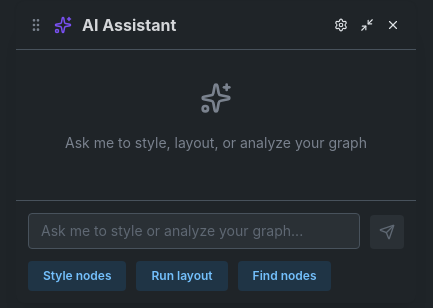
Test case: AiChatDialog › quick actions › populates input when quick action clicked
Click the button "Style nodes" at [77, 276], box [28,261,126,291]
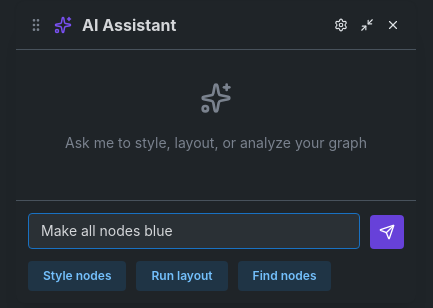
Result: the text box with placeholder "Ask me to style or analyze your graph..." holds "Make all nodes blue" at [28,213,360,249]
